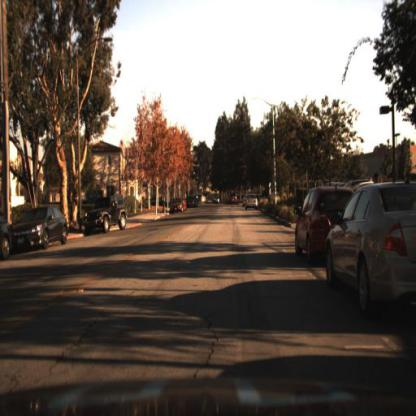car: (327, 181, 416, 321), (295, 181, 356, 269), (286, 175, 328, 279), (12, 208, 69, 251), (82, 192, 131, 237), (168, 196, 187, 217)
